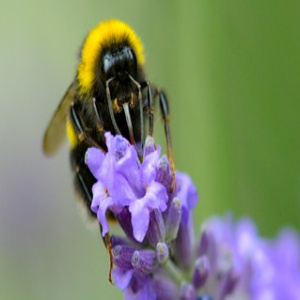bee: (44, 41, 181, 199)
